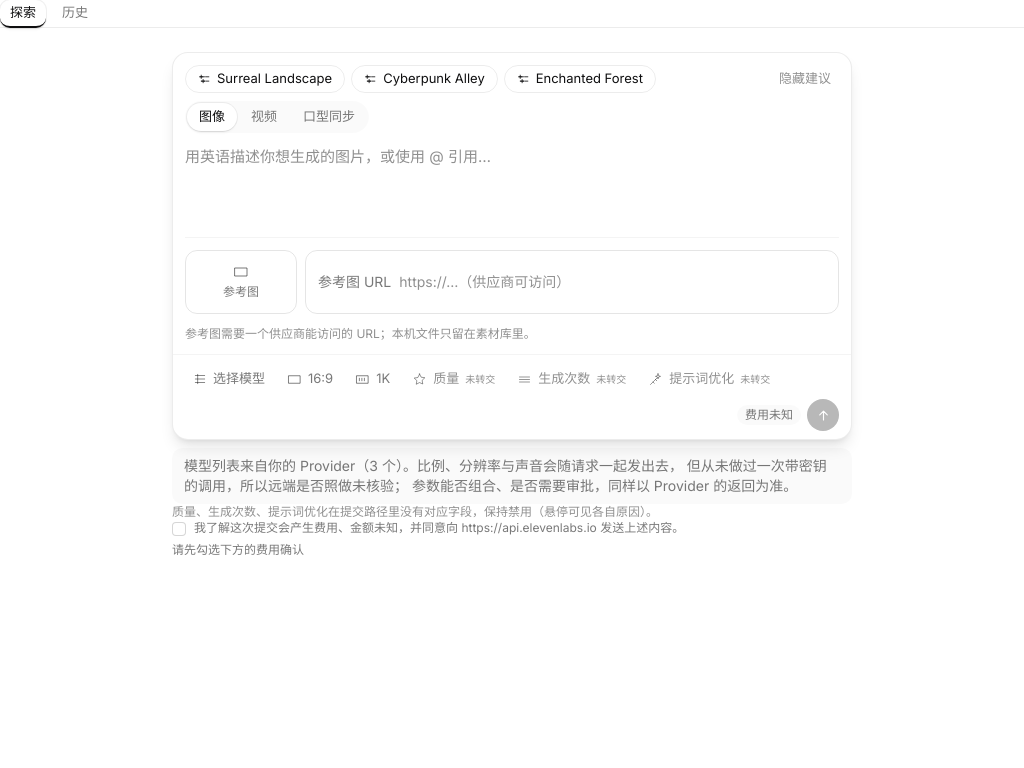
Test: ImageVideoPage › defaults to image mode and lists the models the provider reports
Expected: the text "模型列表来自你的 Provider（3 个）" is shown, [172,448,852,504]
Click the button with aria-label "模型：未选择" at (229, 379), box [185,363,273,395]
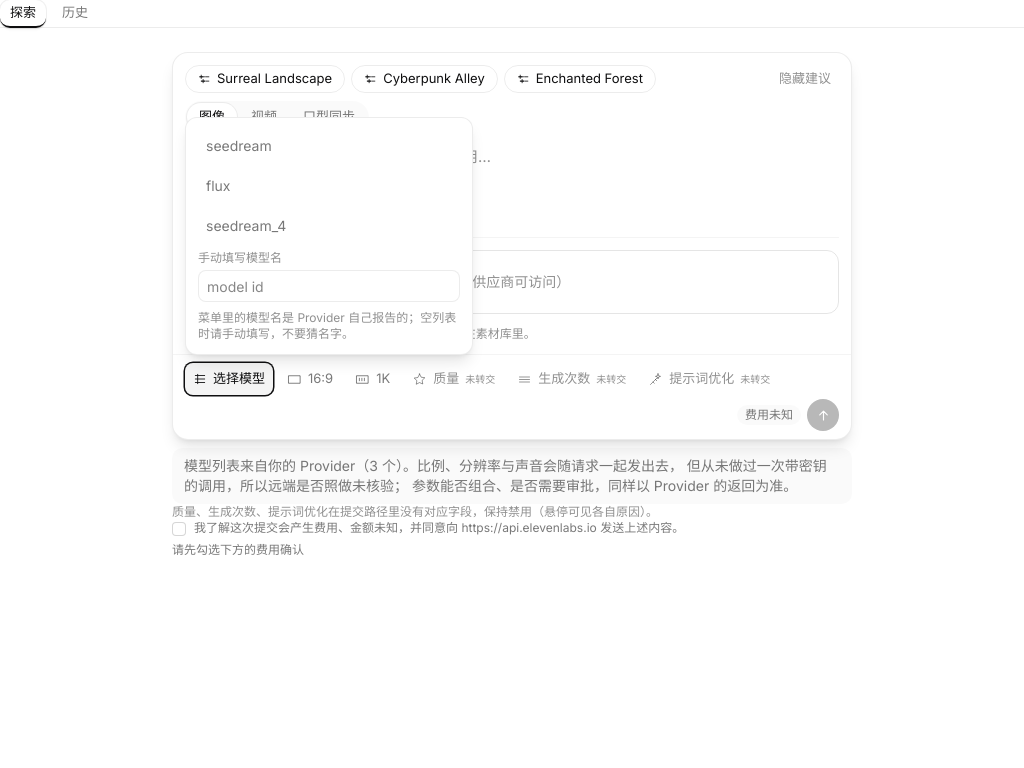
Expected: the button "seedream" is shown, [198,130,460,162]
